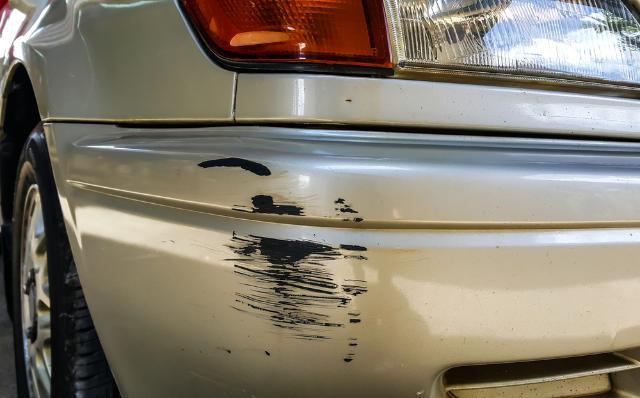scratch: (189, 155, 370, 364)
